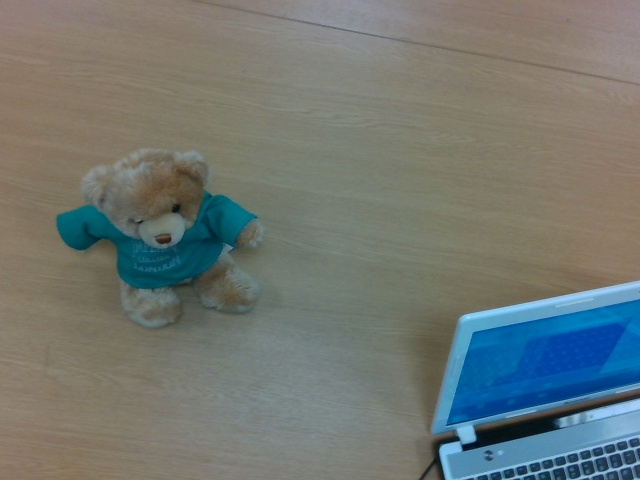teddy: (55, 149, 266, 326)
